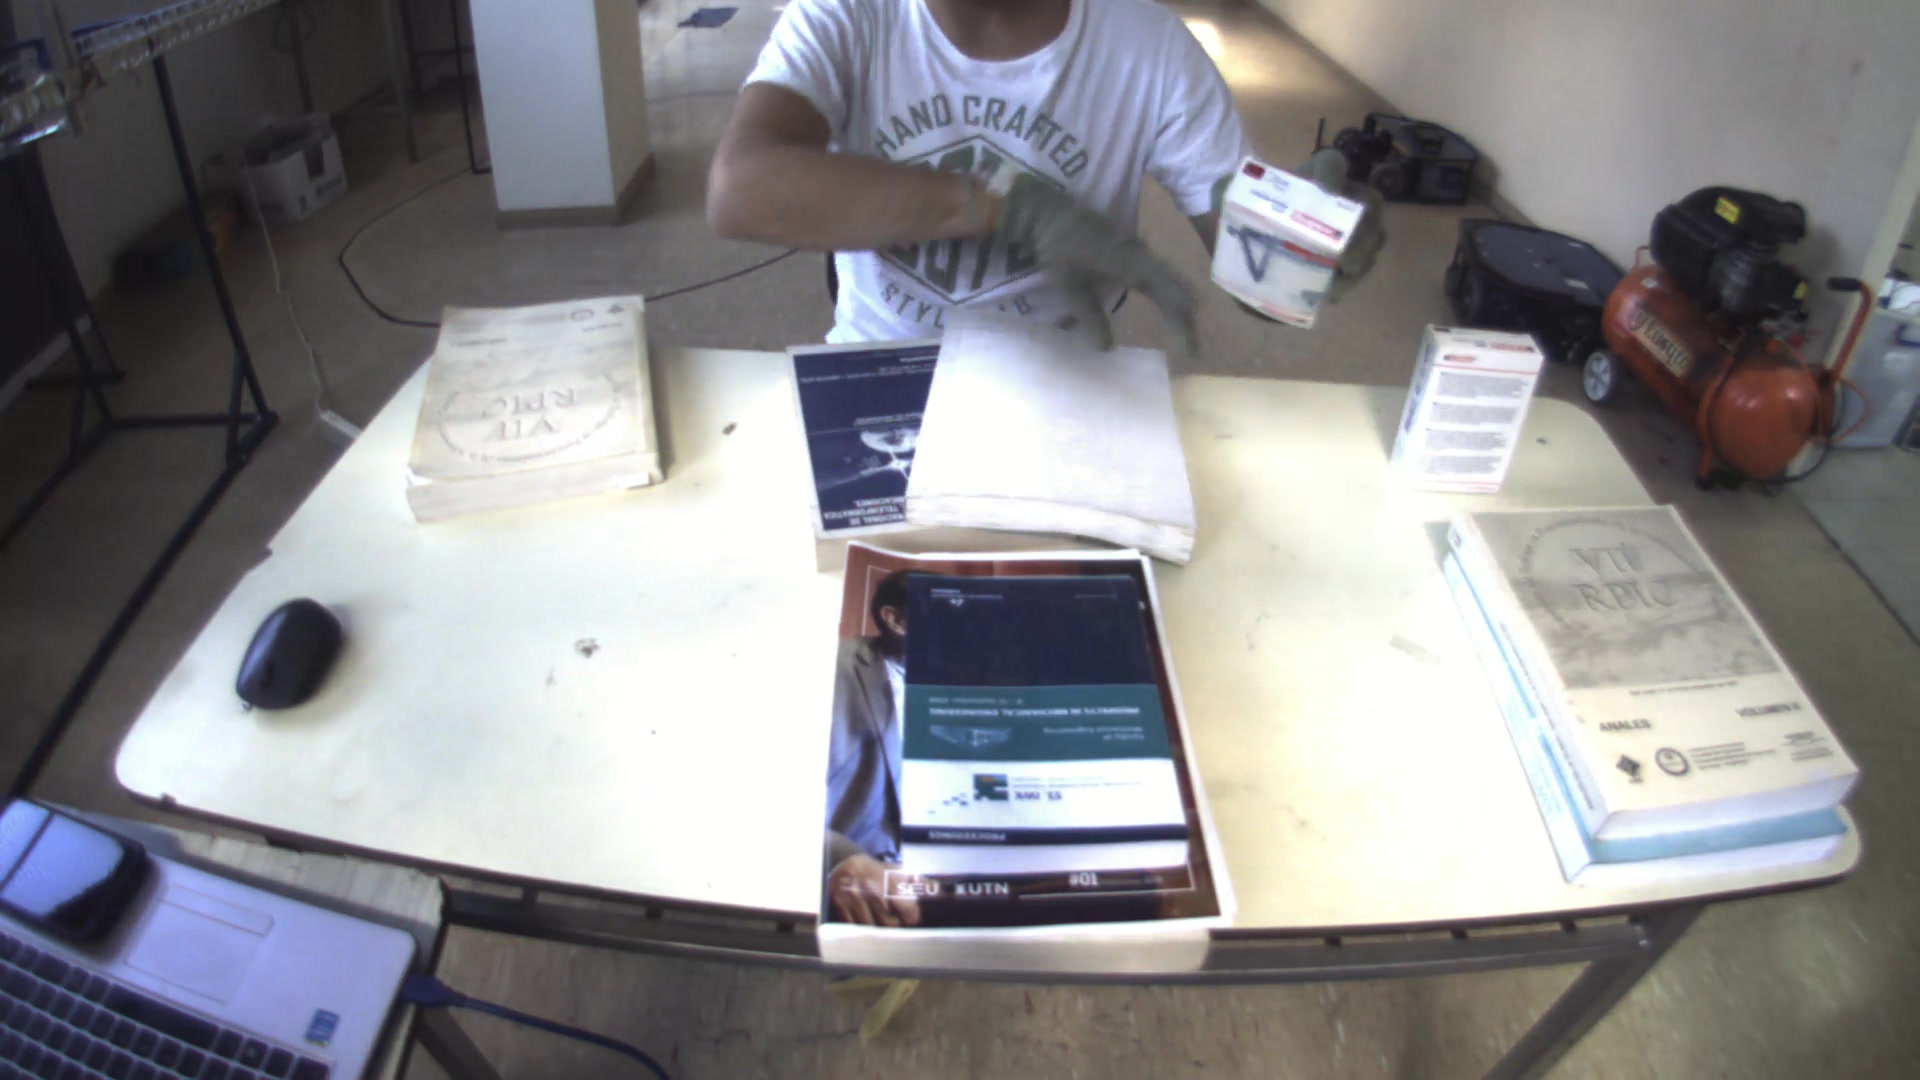hand: (994, 174, 1207, 361), (1261, 138, 1393, 298)
